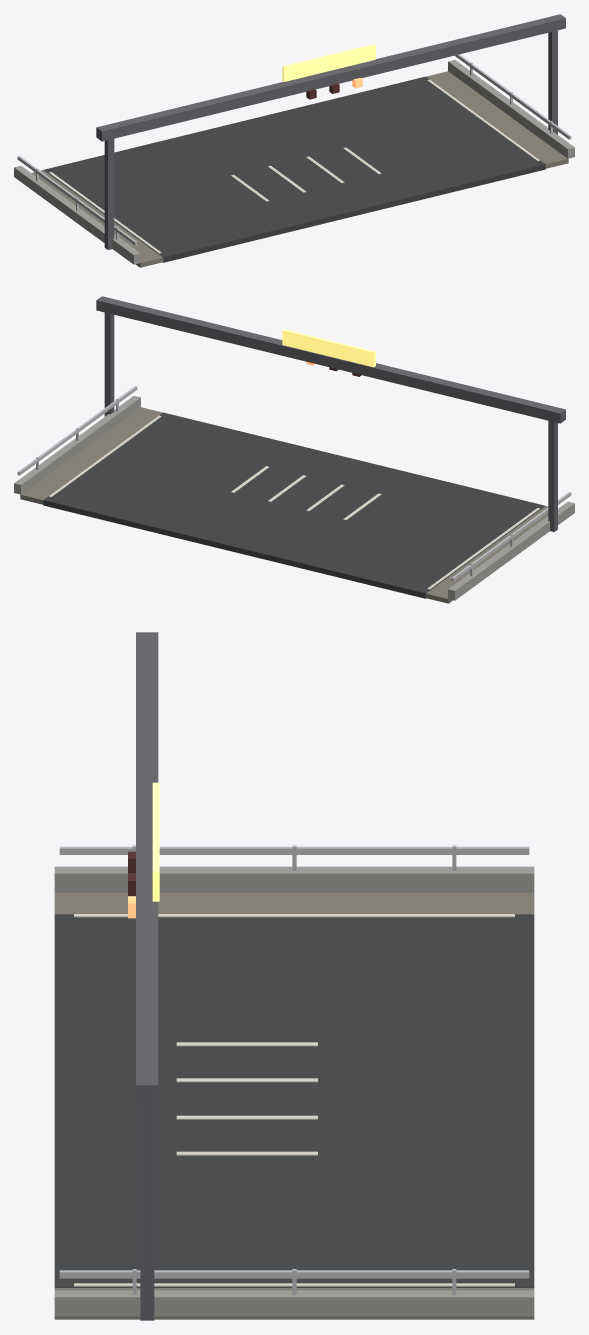
Rendered from track_start_v1.glb.
3 renders of one model, top to bottom at view 1: azimuth 30°, elevation 25°; view 2: azimuth 150°, elevation 25°; view 3: azimuth 270°, elevation 25°, orthographic. The views are drawn at different scales.
Parts seen in each view (by area): view 1: ROAD_01.005, START_BEAM, RAILBASE.015, SHOULDER_01_2.015, START_BRAND, RAILMETAL.015, START_POLE_L, SHOULDER_01_1.015, START_POLE_R, EDGE_01_R.015, EDGE_01_L.015; view 2: ROAD_01.005, START_BEAM, RAILBASE.015, SHOULDER_01_2.015, START_BRAND, RAILMETAL.015, SHOULDER_01_1.015, START_POLE_L, START_POLE_R, EDGE_01_L.015, EDGE_01_R.015; view 3: ROAD_01.005, RAILBASE.015, START_BEAM, SHOULDER_01_1.015, RAILMETAL.015, SHOULDER_01_2.015, START_POLE_R, EDGE_01_R.015, EDGE_01_L.015, START_BRAND.
Part boxes in pixels (<box>): ROAD_01.005: <box>43,76,545,262</box>; START_BEAM: <box>96,14,565,141</box>; RAILBASE.015: <box>14,60,574,264</box>; SHOULDER_01_2.015: <box>426,71,568,168</box>; START_BRAND: <box>282,44,375,81</box>; RAILMETAL.015: <box>17,54,571,245</box>; START_POLE_L: <box>104,139,114,249</box>; SHOULDER_01_1.015: <box>31,170,163,267</box>; START_POLE_R: <box>548,30,557,134</box>; EDGE_01_R.015: <box>427,79,539,161</box>; EDGE_01_L.015: <box>49,172,161,253</box>; ROAD_01.005: <box>43,412,545,598</box>; START_BEAM: <box>96,296,565,423</box>; RAILBASE.015: <box>14,396,574,600</box>; SHOULDER_01_2.015: <box>20,407,162,504</box>; START_BRAND: <box>282,329,375,367</box>; RAILMETAL.015: <box>17,386,571,581</box>; SHOULDER_01_1.015: <box>425,506,548,603</box>; START_POLE_L: <box>548,420,557,531</box>; START_POLE_R: <box>104,312,114,416</box>; EDGE_01_L.015: <box>427,508,539,589</box>; EDGE_01_R.015: <box>49,415,161,497</box>; ROAD_01.005: <box>54,914,534,1287</box>; RAILBASE.015: <box>54,866,534,1316</box>; START_BEAM: <box>136,632,158,1105</box>; SHOULDER_01_1.015: <box>54,892,534,914</box>; RAILMETAL.015: <box>59,846,529,1278</box>; SHOULDER_01_2.015: <box>54,1288,534,1319</box>; START_POLE_R: <box>140,1105,154,1320</box>; EDGE_01_R.015: <box>74,1283,514,1286</box>; EDGE_01_L.015: <box>74,914,514,917</box>; START_BRAND: <box>152,782,159,901</box>.
Bounding box in the file's own units: 18.2 × 5.32 × 8.14.
